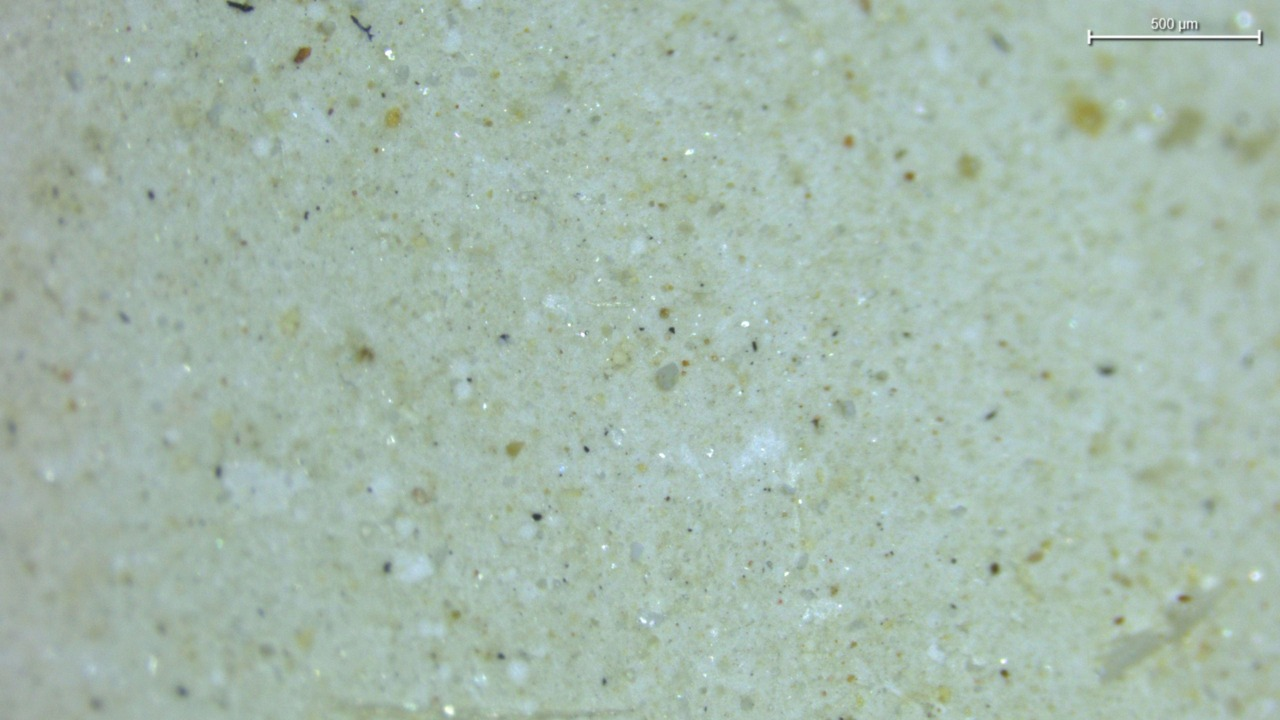microplastic_fragment: (655, 362, 680, 390)
